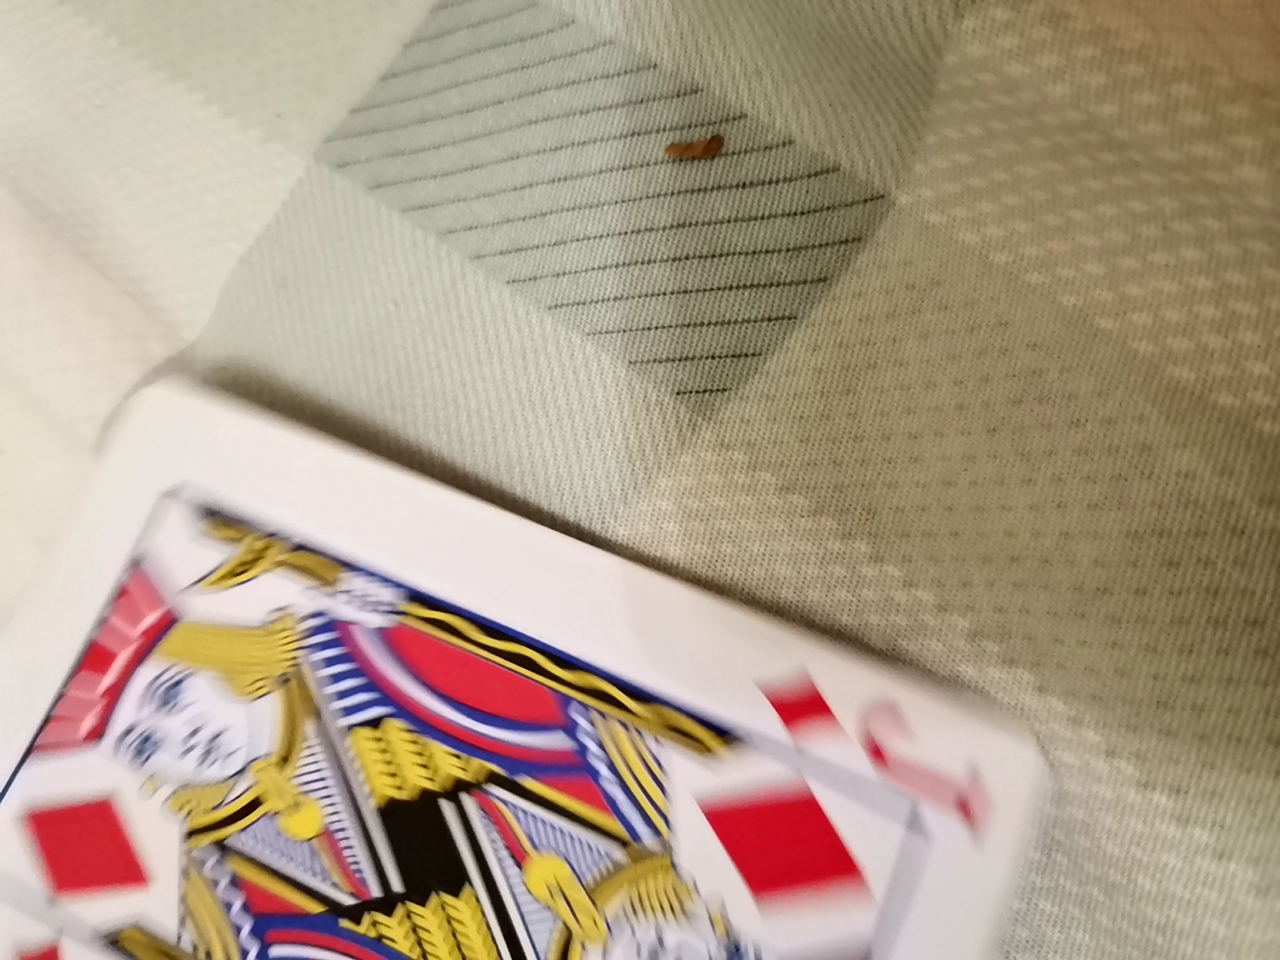fk j: (0, 364, 1046, 959)
